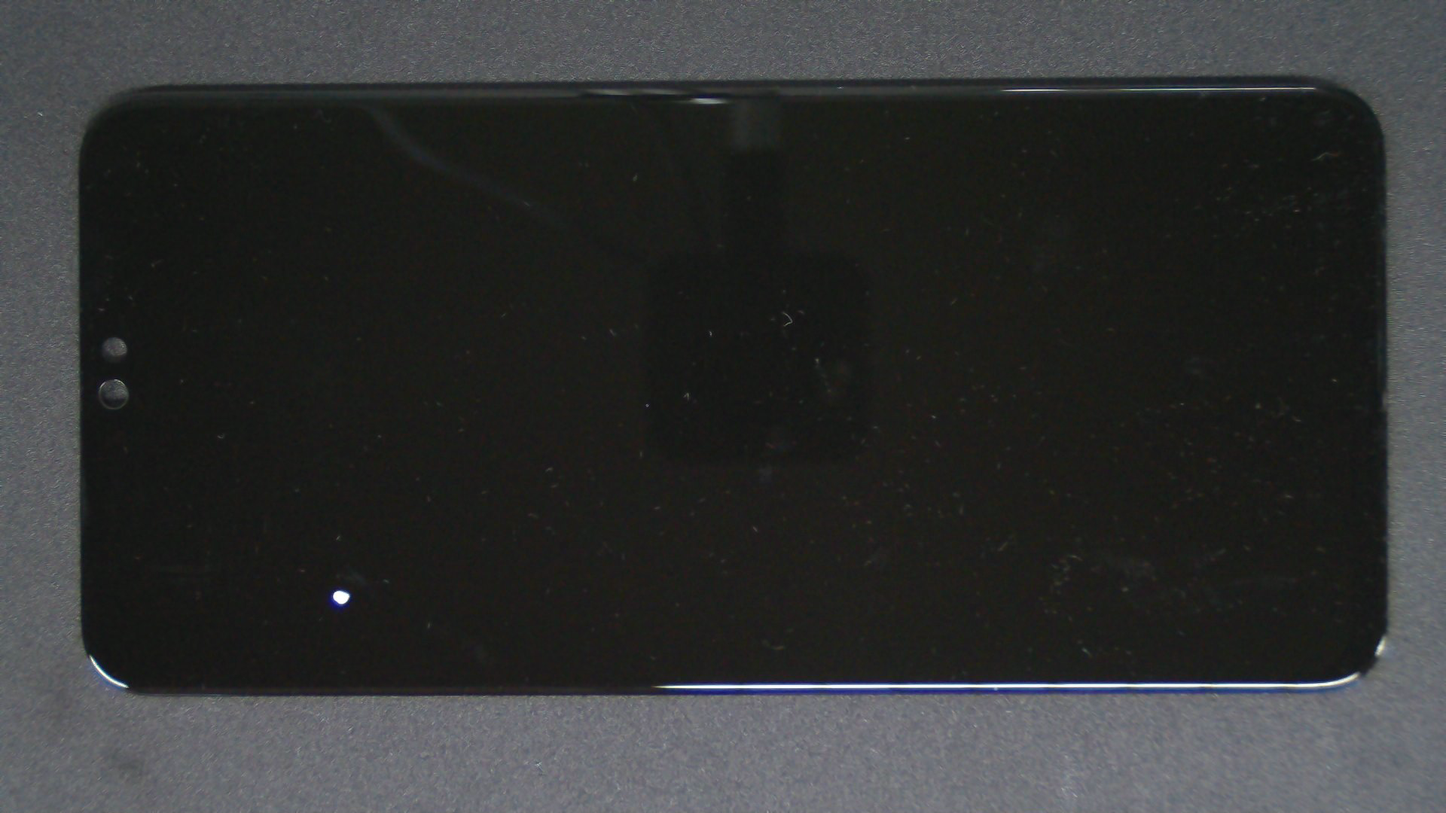Dislodged Screen: (315, 568, 372, 622)
